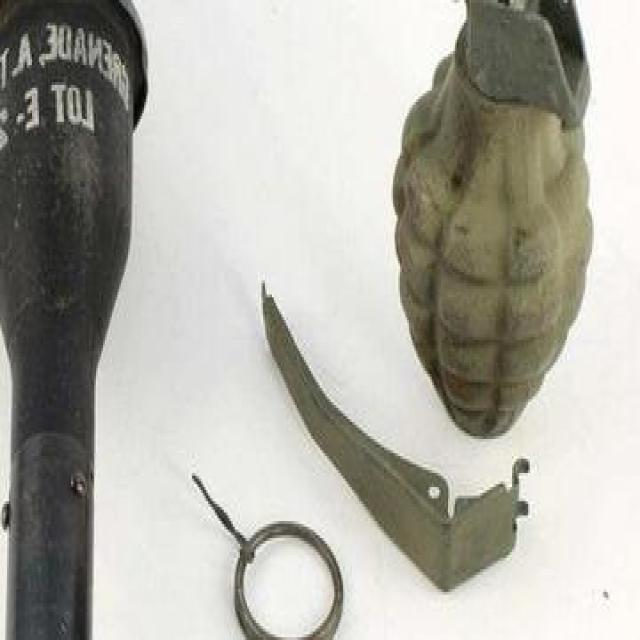grenade: (392, 1, 597, 437)
